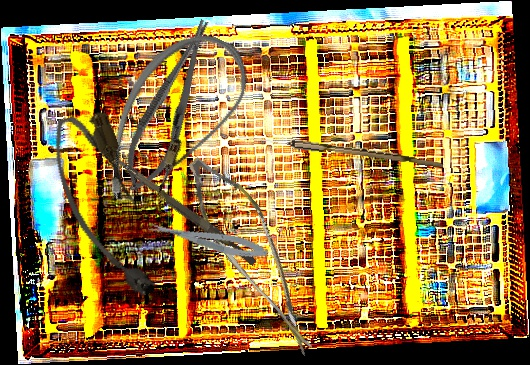Cannula: (87, 14, 262, 230), (42, 105, 168, 309)
Micro Scissor: (157, 148, 355, 357), (146, 214, 270, 264)
Needle Holder: (112, 12, 228, 200)
Pusher: (106, 154, 260, 266)
Surgical Spoon: (235, 132, 444, 168)
